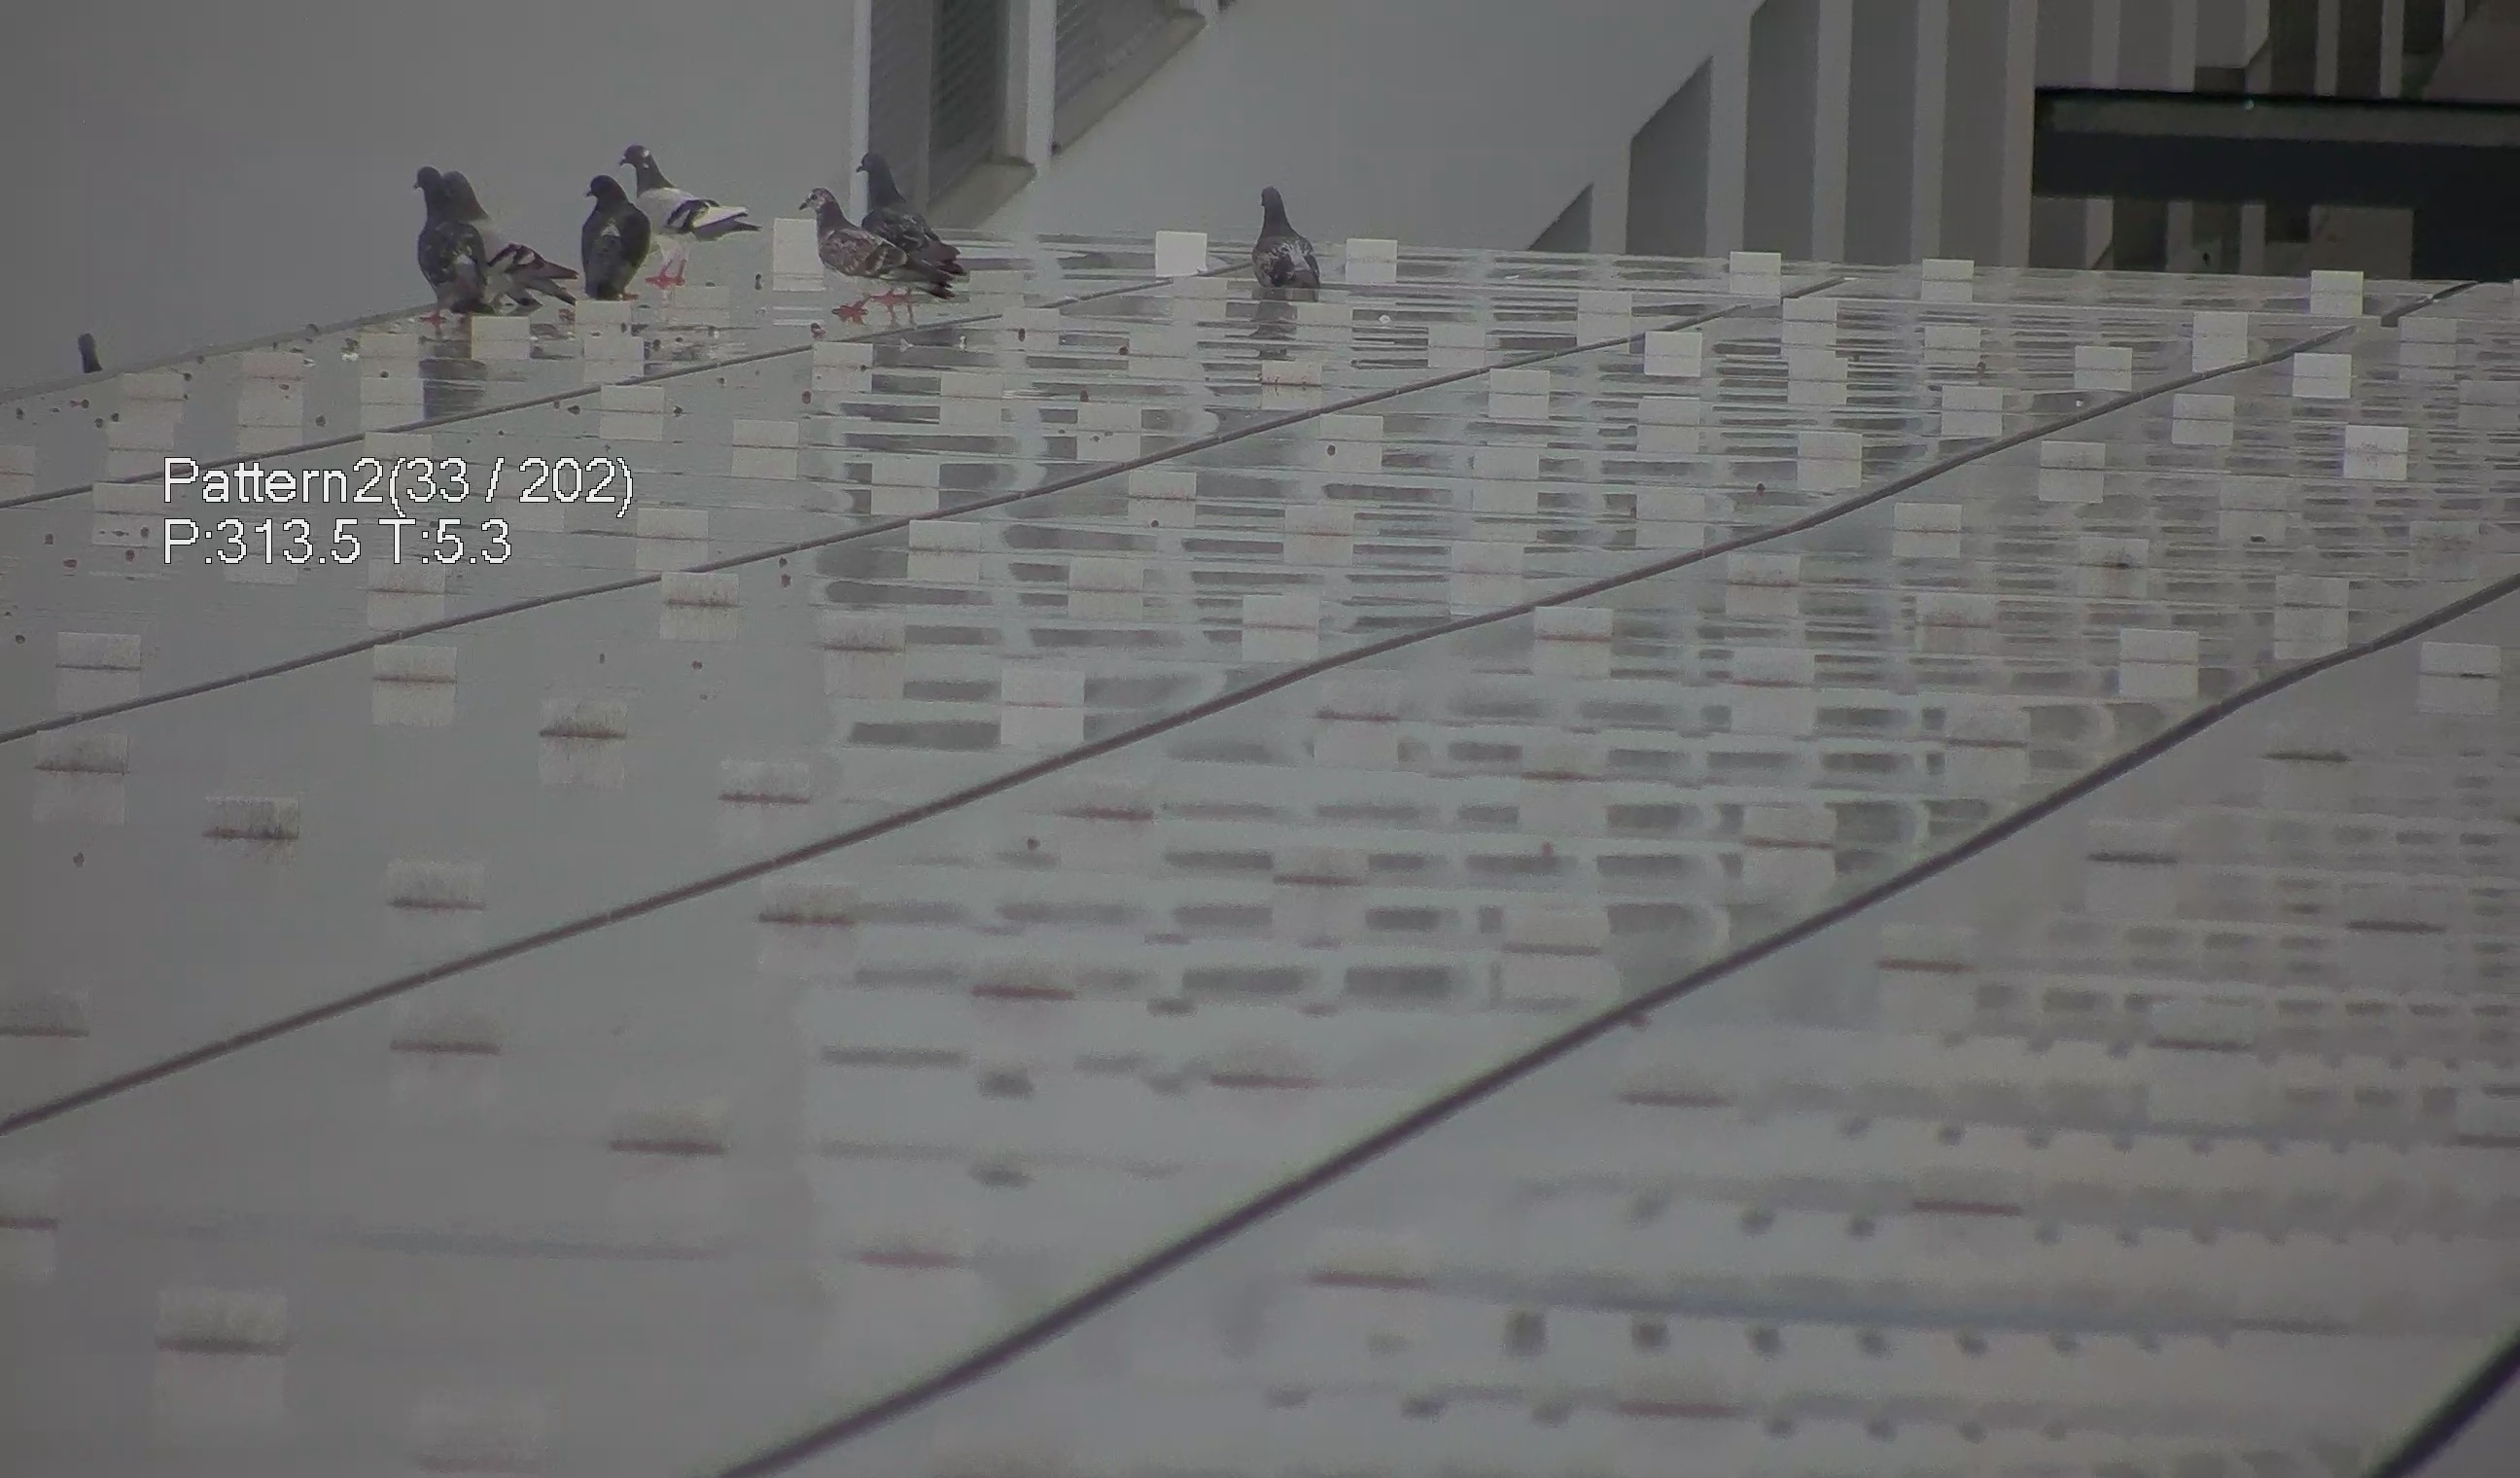Pigeon: (385, 146, 552, 315), (784, 165, 958, 306), (846, 143, 978, 299), (608, 135, 742, 248), (556, 151, 642, 299), (1236, 167, 1321, 296), (60, 301, 116, 385)
